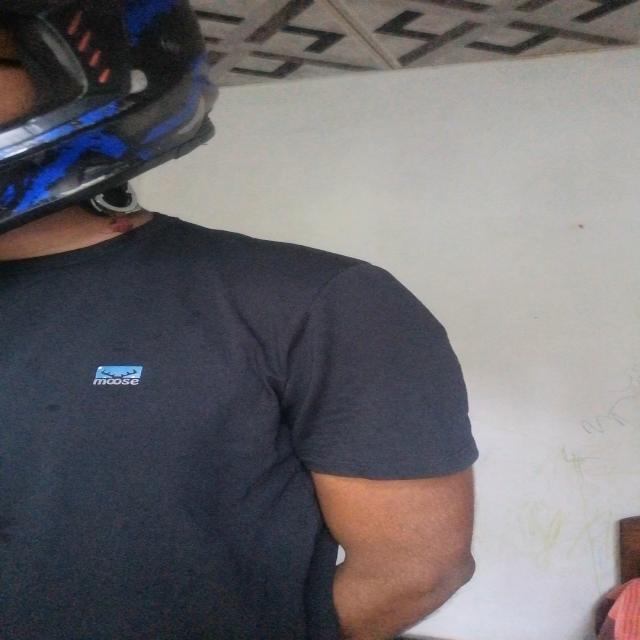Helmet_Wearer: (0, 0, 251, 283)
